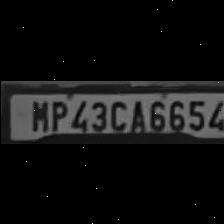3: (88, 96, 106, 130)
4: (66, 96, 88, 130), (205, 97, 221, 129)
5: (186, 96, 204, 130)
6: (144, 97, 166, 129), (166, 97, 184, 129)
A: (127, 96, 145, 132)
C: (108, 96, 127, 130)
M: (26, 96, 46, 130)
P: (46, 96, 66, 130)
